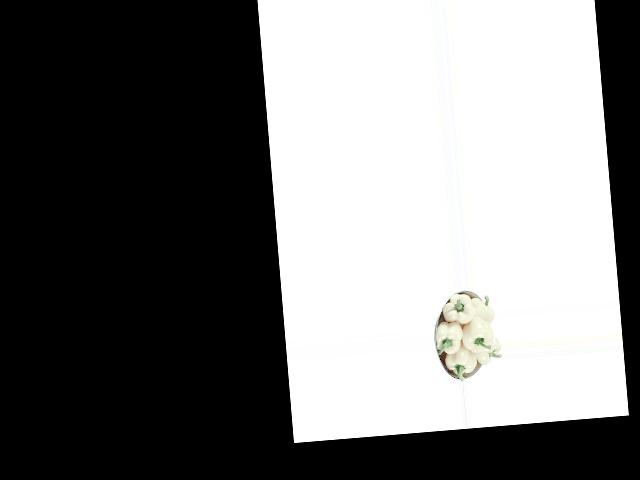bell_pepper: (472, 337, 502, 368)
